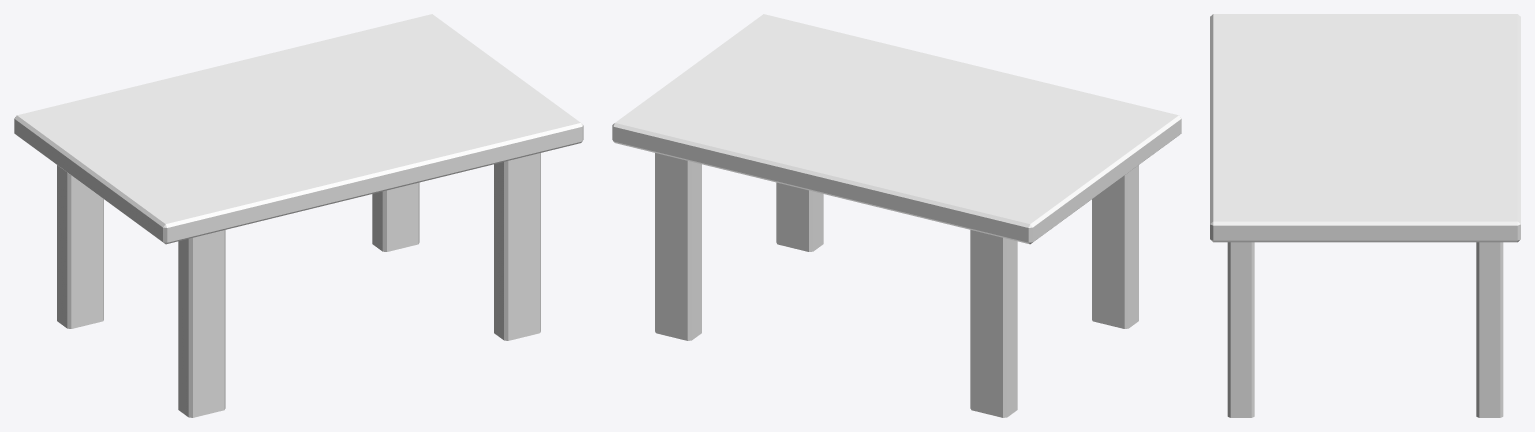
File: Table.fbx
3 views of the same model, side by side, from view 1: azimuth 30°, elevation 25°; view 2: azimuth 150°, elevation 25°; view 3: azimuth 270°, elevation 25° (orthographic). The views are drawn at different scales.
Parts seen in each view (by area): view 1: Table; view 2: Table; view 3: Table.
Boxes of the visible parts, <box> form: Table: <box>14,14,583,417</box>; Table: <box>612,14,1181,417</box>; Table: <box>1210,14,1520,417</box>.
Size of the model in its own units: 160 by 75.35 by 100.
